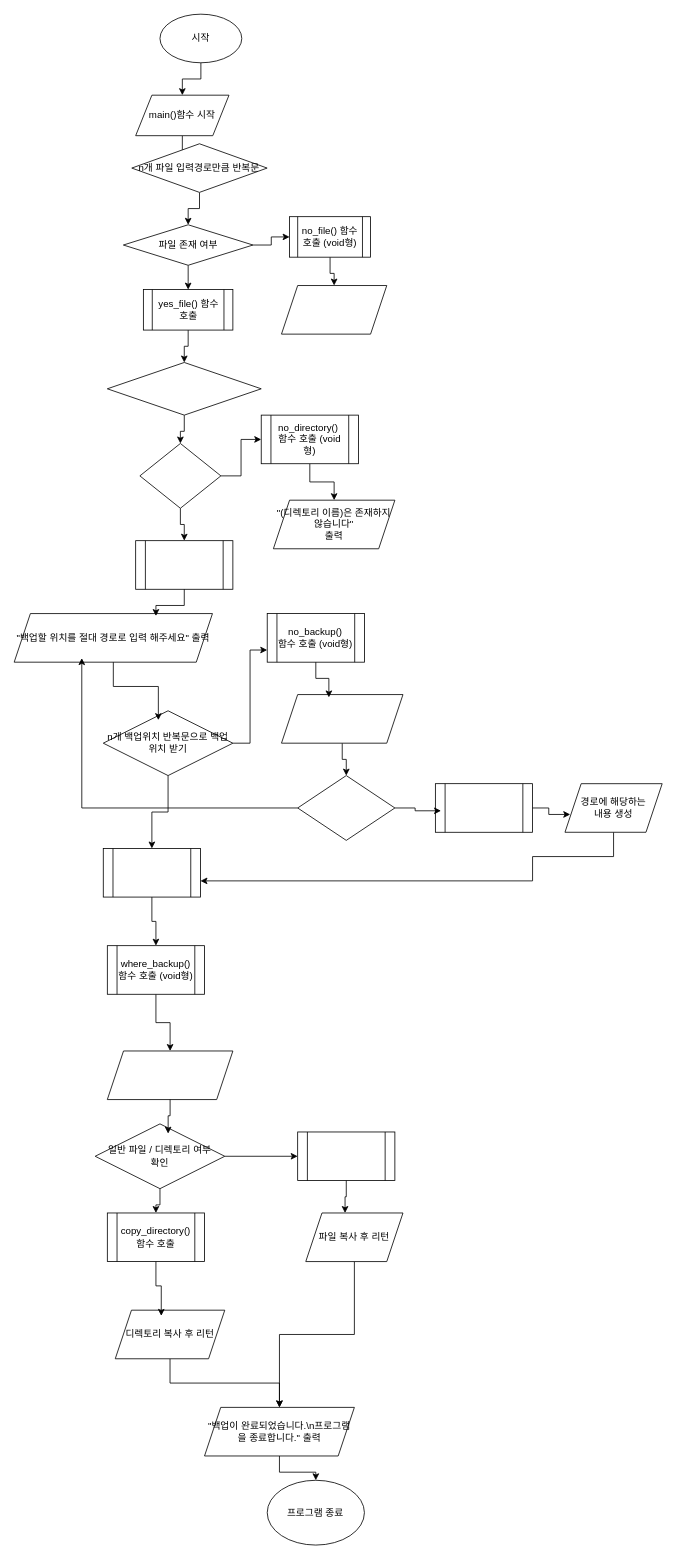
The diagram is 676 pixels wide and 1559 high, and some of its shapes have lost their labels. The shapes that lost their labels are listed below. From the top down, each one's box as (x1, y1, x2, y2) in pixels, then its label:
(281, 285, 387, 334): "(파일 이름)은 존재하지 않습니다" 출력
(107, 362, 261, 415): n개 디렉토리 입력 경로만큼 반복문
(139, 443, 221, 508): 디렉토리 존재 여부
(135, 540, 233, 589): yes_directory() 함수 호출
(281, 694, 403, 743): "(백업할 위치 경로)는 존재하지 않습니다" 출력
(297, 775, 395, 840): y / n 입력 여부
(435, 783, 533, 832): y_make() 함수 호출 (void형)
(102, 848, 200, 897): yes_backup() 함수 호출 (void형)
(107, 1050, 233, 1100): "복사를 시작합니다... " 출력
(297, 1131, 395, 1181): copy_file() 함수 호출
